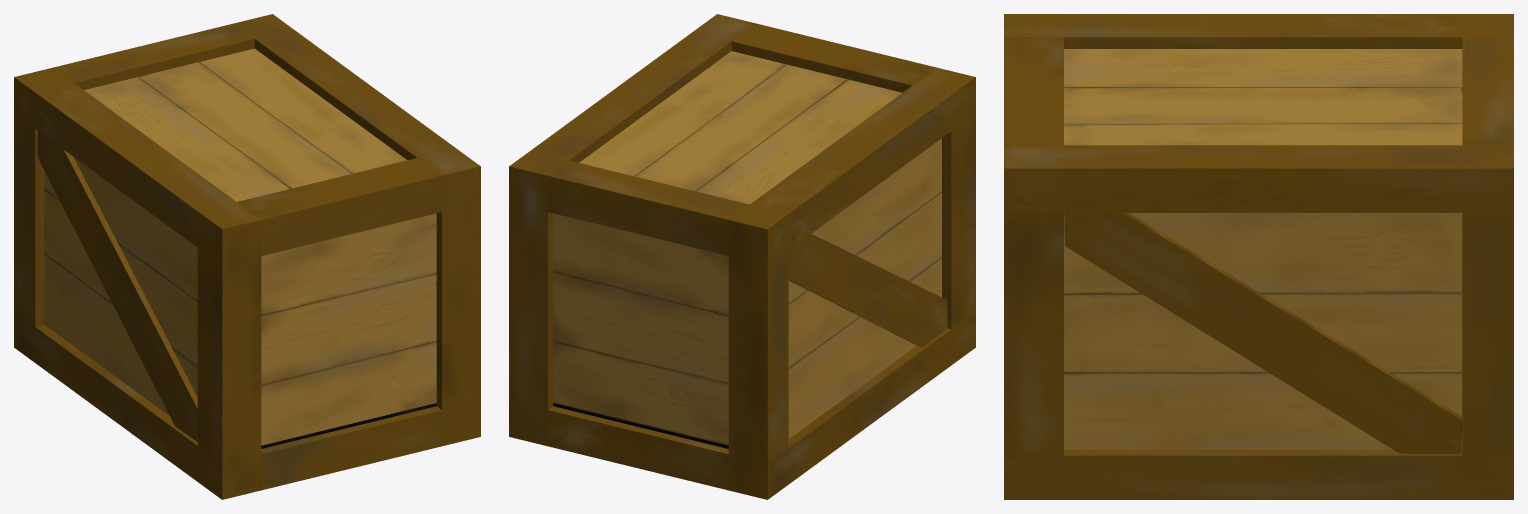
The model's file is kibako.fbx.
The picture shows the model from 3 angles, left to right: view 1: azimuth 30°, elevation 25°; view 2: azimuth 150°, elevation 25°; view 3: azimuth 270°, elevation 25°; orthographic projection. The views are drawn at different scales.
Parts seen in each view (by area): view 1: pCube5; view 2: pCube5; view 3: pCube5.
Boxes of the visible parts, <box> form: pCube5: <box>14,14,480,499</box>; pCube5: <box>509,14,975,499</box>; pCube5: <box>1004,14,1513,499</box>.
Size of the model in its own units: 3.86 by 3.86 by 5.38.
